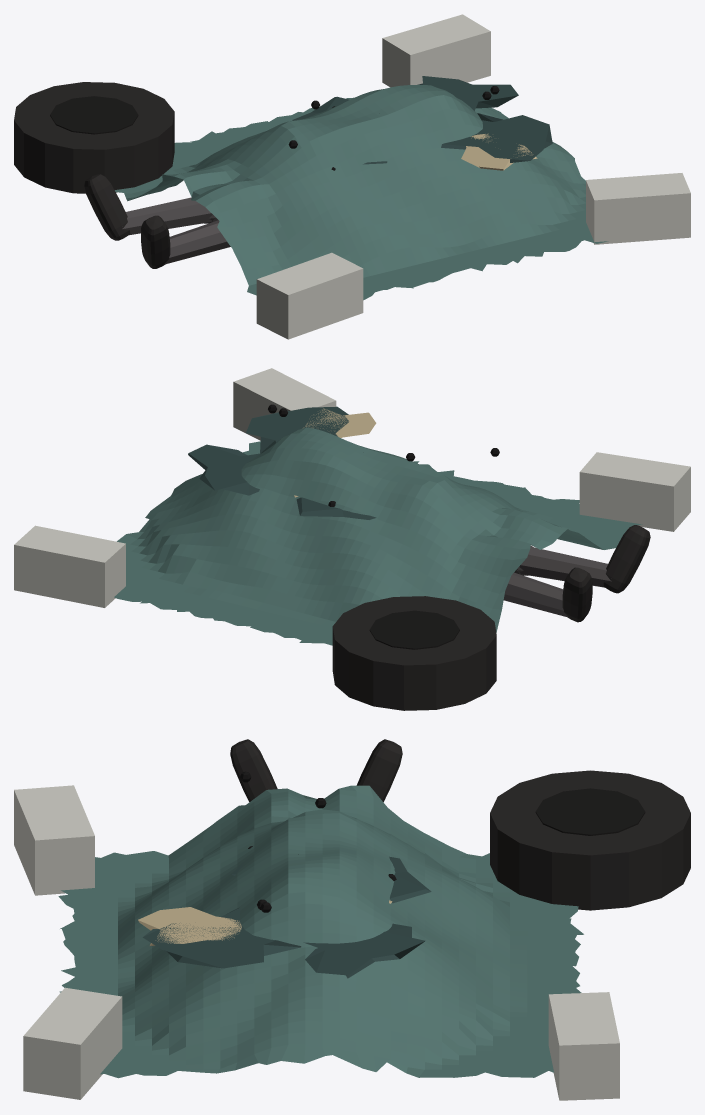
File: tarp.glb
The picture shows the model from 3 angles, top to bottom: view 1: azimuth 30°, elevation 25°; view 2: azimuth 150°, elevation 25°; view 3: azimuth 270°, elevation 25°; orthographic projection. The views are drawn at different scales.
Visible parts, largest first — view 1: tarp; view 2: tarp; view 3: tarp.
Boxes of the visible parts, x1,y1,x2,y2 form: tarp: (14, 14, 690, 339); tarp: (14, 368, 690, 710); tarp: (14, 739, 690, 1100).
Bounding box in the file's own units: 2.23 × 0.516 × 2.22.
